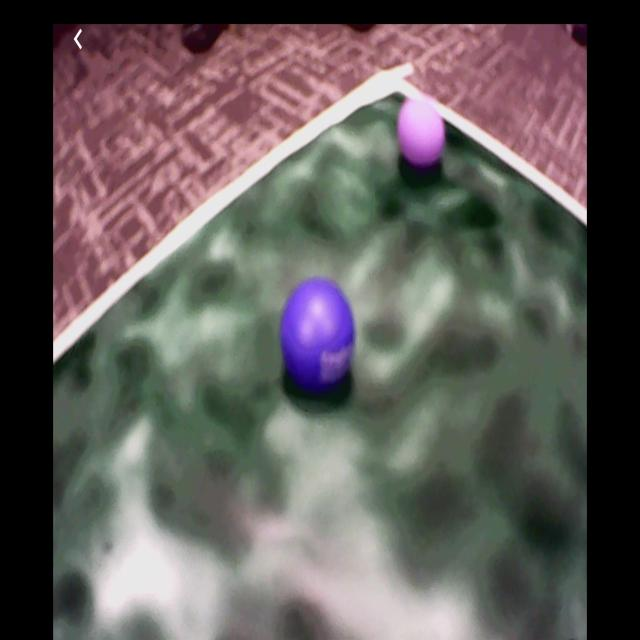ball: (280, 279, 356, 388), (398, 100, 448, 173)
